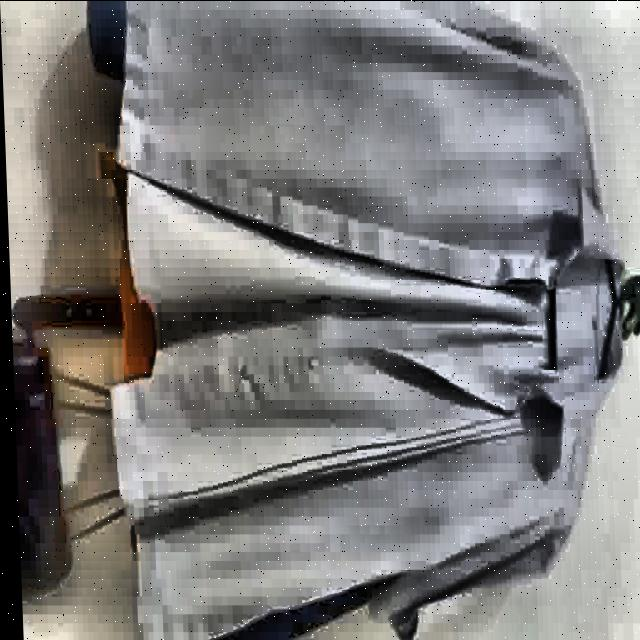clothes: (8, 4, 640, 640)
